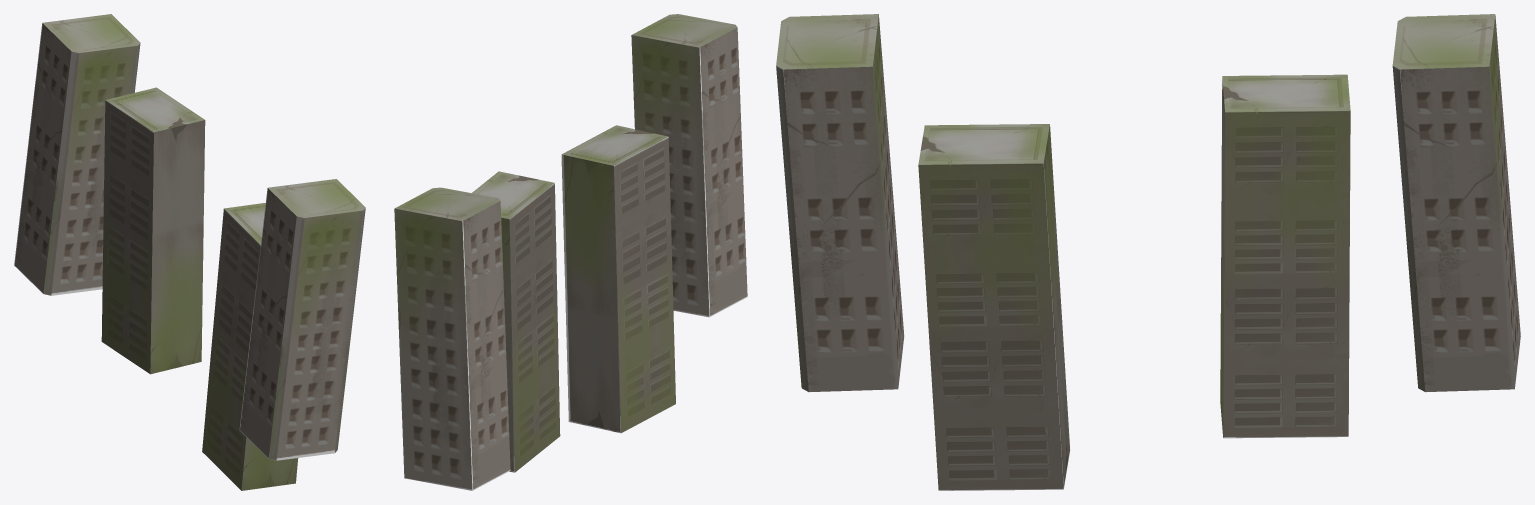
Rendered from Main_1005_obj_03.fbx.
3 views of the same model, side by side, from view 1: azimuth 30°, elevation 25°; view 2: azimuth 150°, elevation 25°; view 3: azimuth 270°, elevation 25° (orthographic). The views are drawn at different scales.
Visible parts, largest first — view 1: Cube.104, Cube.009, Cube.022, Cube.094; view 2: Cube.094, Cube.022, Cube.104, Cube.009; view 3: Cube.094, Cube.009, Cube.022, Cube.104.
Boxes of the visible parts, x1,y1,x2,y2 form: Cube.104: [239, 179, 365, 460]; Cube.009: [101, 87, 205, 374]; Cube.022: [14, 14, 140, 295]; Cube.094: [202, 203, 298, 490]; Cube.094: [561, 125, 675, 433]; Cube.022: [394, 187, 510, 490]; Cube.104: [631, 14, 747, 317]; Cube.009: [472, 171, 560, 472]; Cube.094: [918, 124, 1070, 490]; Cube.009: [1220, 74, 1350, 438]; Cube.022: [1392, 14, 1520, 392]; Cube.104: [776, 14, 904, 392].
Bounding box in the file's own units: 79.12 × 263 × 400.
